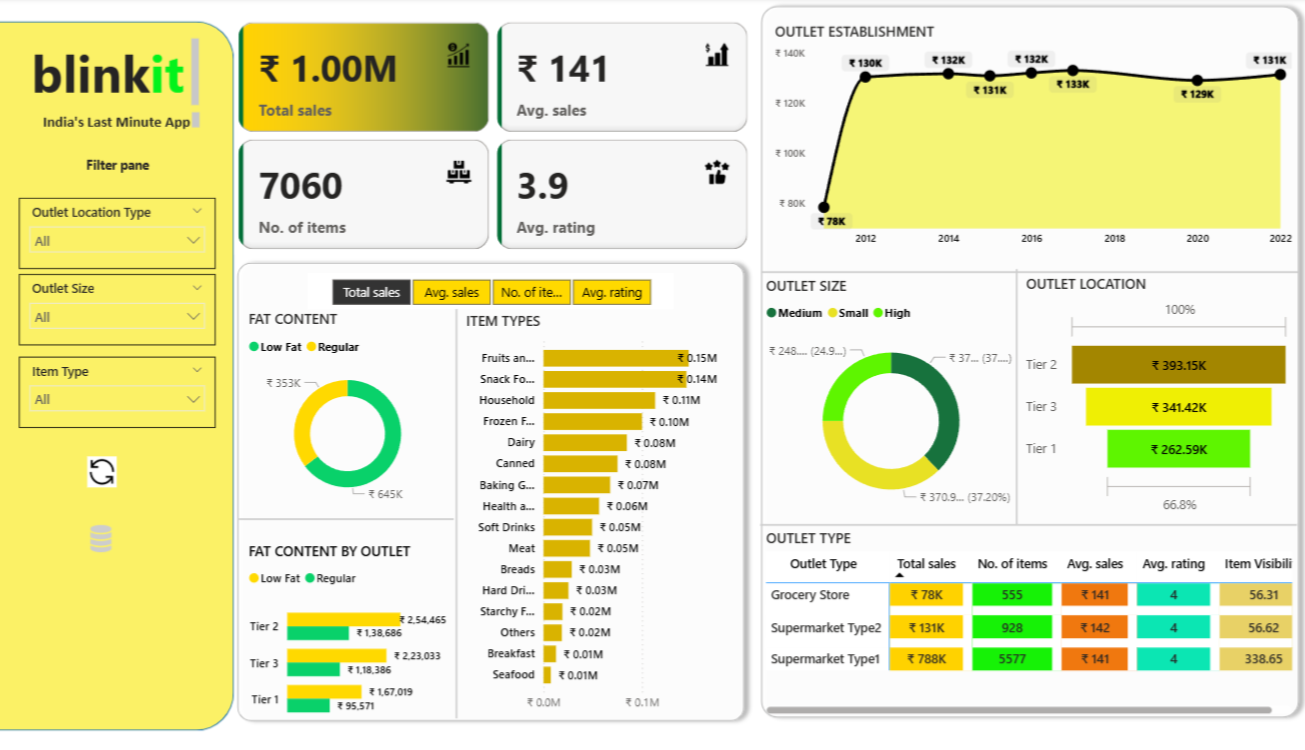

This screenshot's page, from the dashboard's own definition file:
{"tool":"powerbi","page":{"name":"Page 1","canvas":[1400,800],"ordinal":0},"visuals":[{"type":"shape","box":[0,24.9,250,749.8],"z":0},{"type":"textbox","box":[22.5,38.4,195.8,80.7],"z":1000},{"type":"textbox","box":[42.3,116.4,175.9,27.8],"z":2000},{"type":"cardVisual","fields":{"Data":["measures (2).total slaes","measures (2).average sales","measures (2).number of items","measures (2).avg rating"]},"box":[250,21.2,548.9,250],"z":3000},{"type":"shape","box":[244.7,271.2,554.2,502.6],"z":4000},{"type":"donutChart","title":"FAT CONTENT","fields":{"Y":["measures (2).Total sales"],"Category":["BlinkIT Grocery Data.Item Fat Content"]},"box":[260.6,329.4,219.6,215.6],"z":5000},{"type":"slicer","fields":{"Values":["metrics.metrics"]},"box":[328,291,387.6,38.4],"z":6000},{"type":"cardVisual","fields":{"Data":["measures (2).Total sales"]},"box":[328.2,424.5,82.1,60],"z":7000},{"type":"clusteredBarChart","title":"FAT CONTENT BY OUTLET","fields":{"Y":["measures (2).Total sales"],"Category":["BlinkIT Grocery Data.Outlet Location Type"],"Series":["BlinkIT Grocery Data.Item Fat Content"]},"box":[260.4,574.4,219.3,203.6],"z":8000},{"type":"shape","box":[255.6,544.4,227.2,12.6],"z":9000},{"type":"shape","box":[480.2,329.4,10.6,432.5],"z":10000},{"type":"barChart","title":"ITEM TYPES","fields":{"Y":["measures (2).Total sales"],"Category":["BlinkIT Grocery Data.Item Type"]},"box":[490.7,330.7,295,432.5],"z":11000},{"type":"shape","box":[798.5,0,587,770.1],"z":12000},{"type":"lineChart","title":"OUTLET ESTABLISHMENT ","fields":{"Category":["BlinkIT Grocery Data.Outlet Establishment Year"],"Y":["Sum(BlinkIT Grocery Data.Sales)"]},"box":[817.4,25.2,557,246.2],"z":13000},{"type":"shape","box":[807.9,287.2,568.1,6.3],"z":14000},{"type":"donutChart","title":"OUTLET SIZE","fields":{"Y":["Sum(BlinkIT Grocery Data.Sales)"],"Category":["BlinkIT Grocery Data.Outlet Size"]},"box":[807.9,293.5,274.6,260.4],"z":15000},{"type":"funnel","title":"OUTLET LOCATION","fields":{"Category":["BlinkIT Grocery Data.Outlet Location Type"],"Y":["Sum(BlinkIT Grocery Data.Sales)"]},"box":[1083.3,292.3,289.7,260.6],"z":16000},{"type":"shape","box":[1073.1,287.2,11,269.8],"z":17000},{"type":"shape","box":[806.4,553.9,568.1,6.3],"z":18000},{"type":"pivotTable","title":"OUTLET TYPE","fields":{"Rows":["BlinkIT Grocery Data.Outlet Type"],"Values":["measures (2).Total sales","measures (2).No. of items","measures (2).Avg. sales","measures (2).Avg. rating","Sum(BlinkIT Grocery Data.Item Visibility)"]},"box":[807.9,560.2,566.5,202],"z":19000},{"type":"slicer","fields":{"Values":["BlinkIT Grocery Data.Outlet Location Type"]},"box":[22.5,211.6,207.7,75.4],"z":20000},{"type":"slicer","fields":{"Values":["BlinkIT Grocery Data.Outlet Size"]},"box":[22.5,292.3,207.7,75.4],"z":21000},{"type":"slicer","fields":{"Values":["BlinkIT Grocery Data.Item Type"]},"box":[22.5,379.6,207.7,75.4],"z":22000},{"type":"textbox","box":[79.4,162.7,95.2,30.4],"z":23000},{"type":"image","box":[89.9,480.2,41,42.3],"z":24000},{"type":"image","box":[89.9,550.3,38.4,43.7],"z":25000}]}

Visuals, with their boxes in screenshot pixels (x1, y1, x2, y2), scaled from the page's 1400x800 canvas onto the 1305x750 screenshot:
shape: crop(0, 23, 233, 726)
textbox: crop(21, 36, 203, 112)
textbox: crop(39, 109, 203, 135)
cardVisual - measures (2).total slaes x measures (2).average sales: crop(233, 20, 745, 254)
shape: crop(228, 254, 745, 725)
"FAT CONTENT" donutChart: crop(243, 309, 448, 511)
slicer - metrics.metrics: crop(306, 273, 667, 309)
cardVisual - measures (2).Total sales: crop(306, 398, 382, 454)
"FAT CONTENT BY OUTLET" clusteredBarChart: crop(243, 538, 447, 729)
shape: crop(238, 510, 450, 522)
shape: crop(448, 309, 457, 714)
"ITEM TYPES" barChart: crop(457, 310, 732, 716)
shape: crop(744, 0, 1291, 722)
"OUTLET ESTABLISHMENT " lineChart: crop(762, 24, 1281, 254)
shape: crop(753, 269, 1283, 275)
"OUTLET SIZE" donutChart: crop(753, 275, 1009, 519)
"OUTLET LOCATION" funnel: crop(1010, 274, 1280, 518)
shape: crop(1000, 269, 1011, 522)
shape: crop(752, 519, 1281, 525)
"OUTLET TYPE" pivotTable: crop(753, 525, 1281, 715)
slicer - BlinkIT Grocery Data.Outlet Location Type: crop(21, 198, 215, 269)
slicer - BlinkIT Grocery Data.Outlet Size: crop(21, 274, 215, 345)
slicer - BlinkIT Grocery Data.Item Type: crop(21, 356, 215, 427)
textbox: crop(74, 153, 163, 181)
image: crop(84, 450, 122, 490)
image: crop(84, 516, 120, 557)
